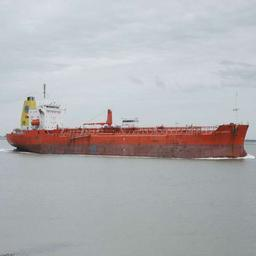Ship: (5, 94, 251, 163)
